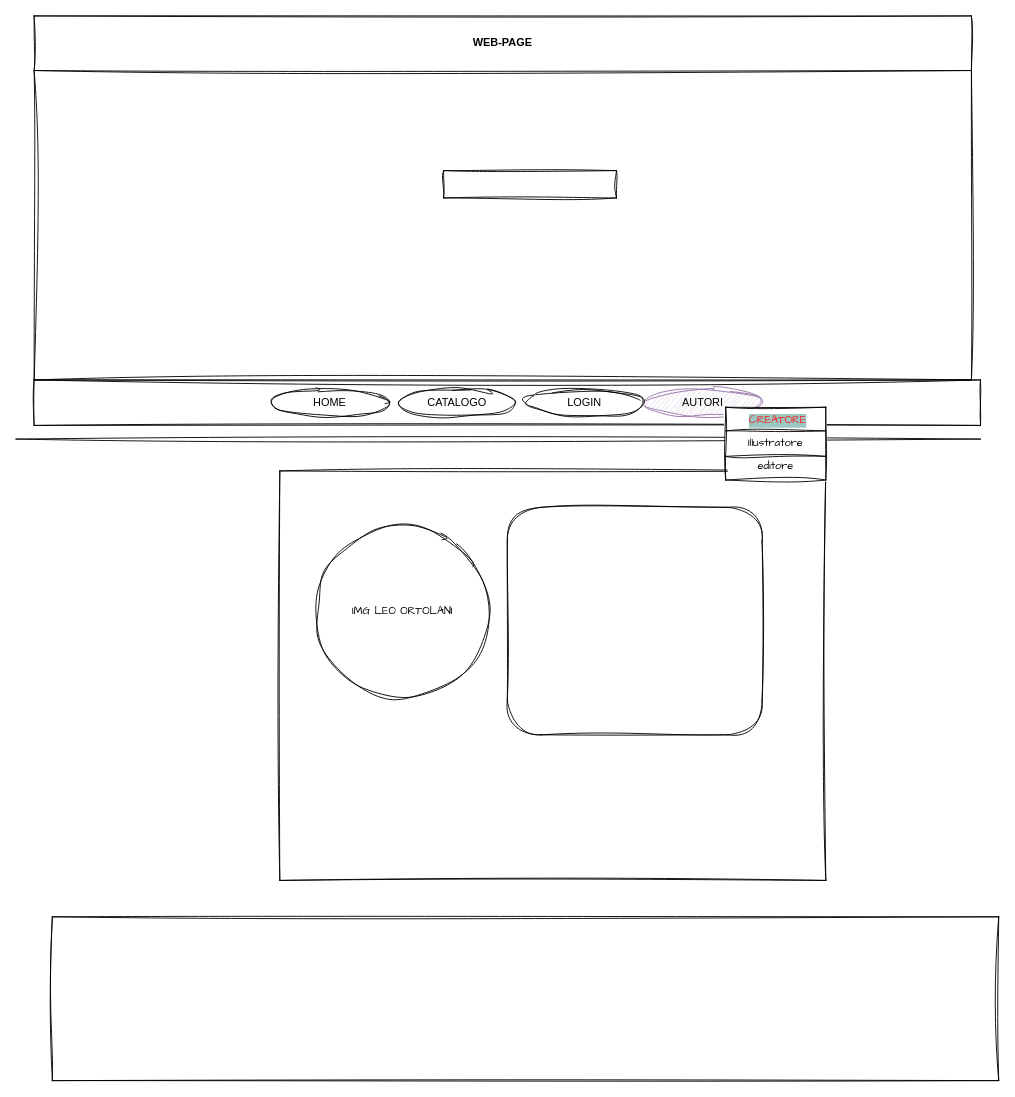
The diagram is 1015 pixels wide and 1097 high, and some of its shapes have lost their labels. The shapes that lost their labels are listed below. From the top down, each one's centre as x and y in pixels, then its label:
At (x=530, y=184): "logo img".
At (x=634, y=620): "LEO ORTOLANI Biografia, storia e fumetti".
At (x=525, y=998): "FOOTER".
